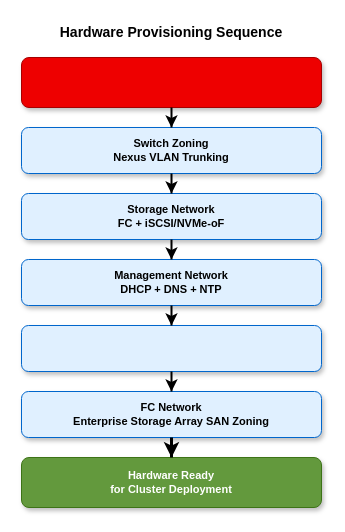
The diagram is 345 pixels wide and 532 high, and some of its shapes have lost their labels. Here are the shapes that lost their labels. From the top down, the centre of each, then its label:
the point at 172,83: Hardware Manager Server Profiles BIOS, Boot, NIC, PCI Placement
the point at 172,349: Migration Network Jumbo MTU 9000
